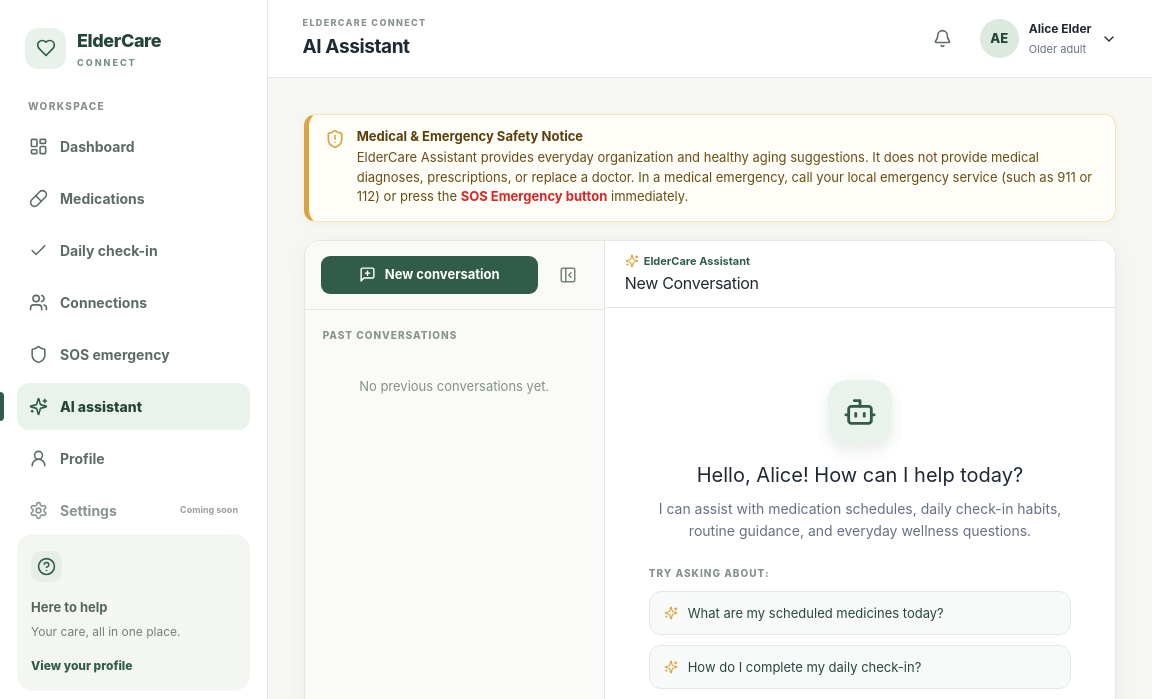
Scenario: Module 7 AI Eldercare Assistant frontend workflows › clicking an example prompt chip automatically sends it
This screenshot has width=1152, height=699.
Click the button "What are my scheduled medicines today?" at coordinates (860, 613), box 649,591 -> 1071,635
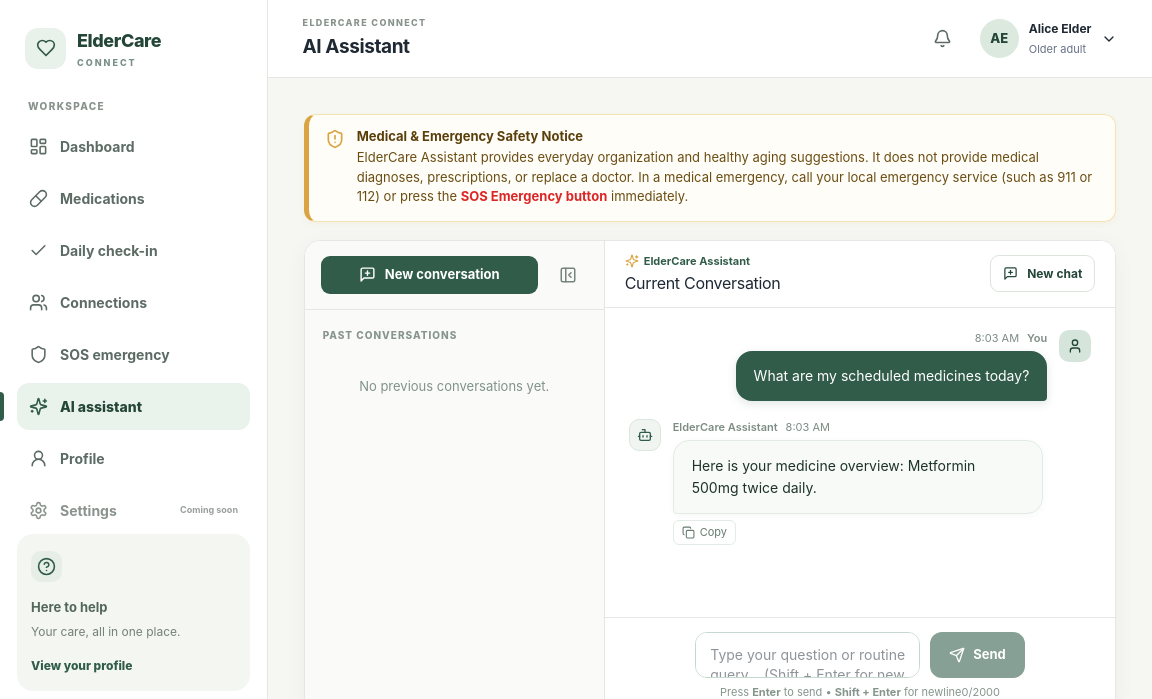
Expected: the text "What are my scheduled medicines today?" is shown, 754,365 -> 1029,387
Now the text "Here is your medicine overview: Metformin 500mg twice daily." is shown, box 692,455 -> 1024,499
